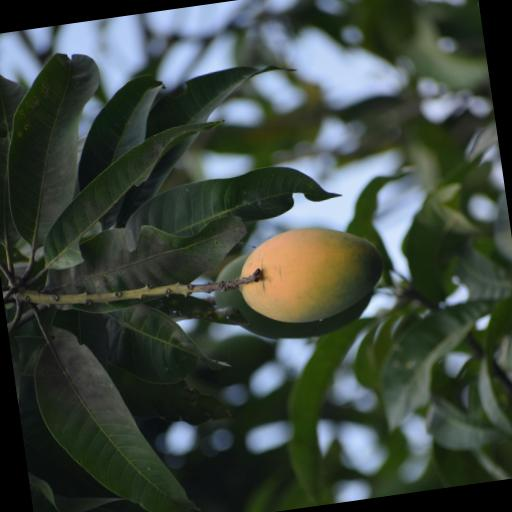Mango-Detection: (125, 144, 470, 425)
